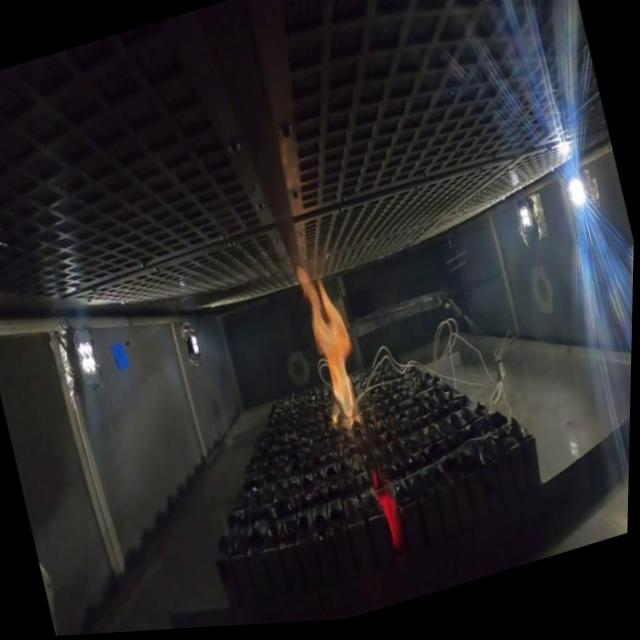fire: (283, 248, 380, 446)
